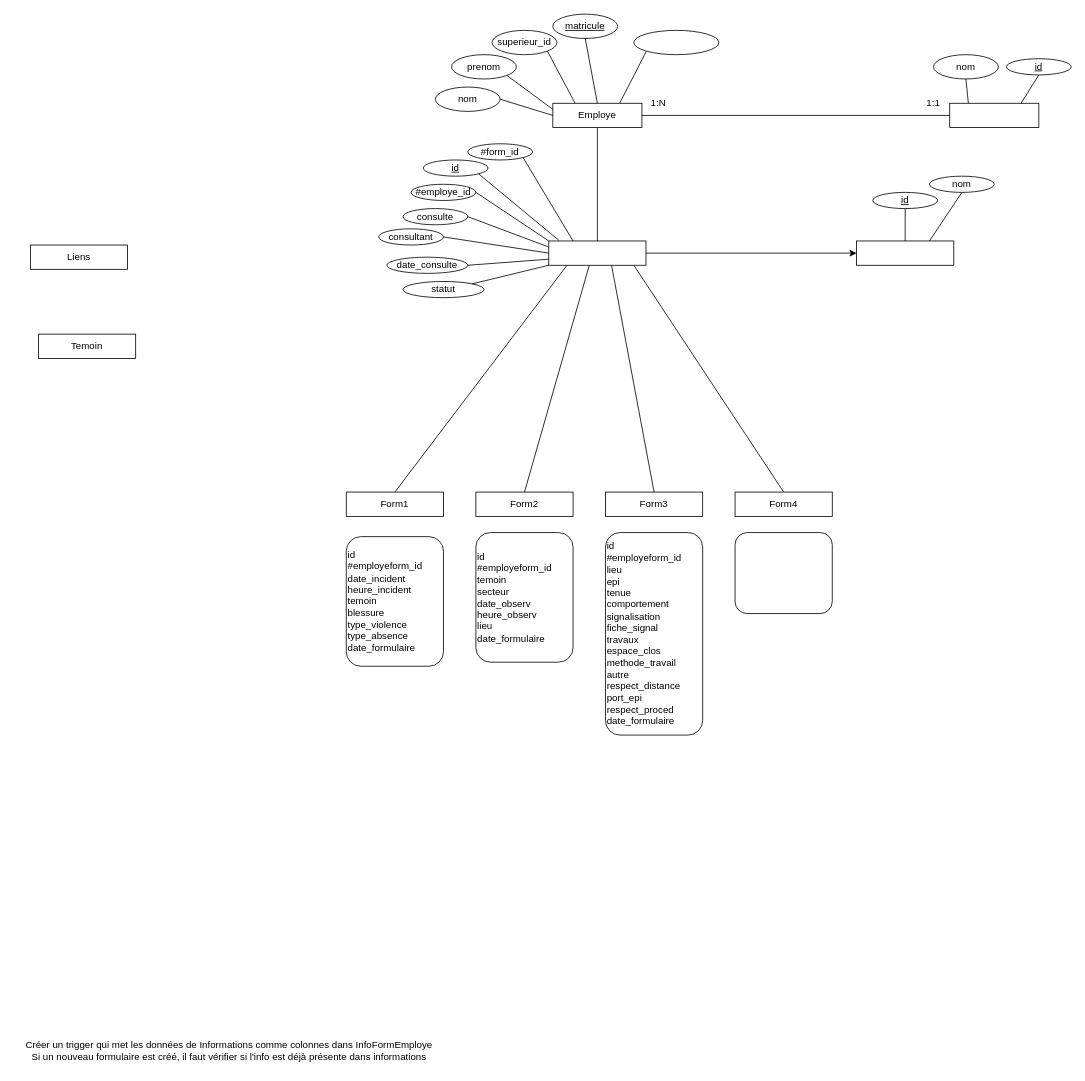
The diagram is 1085 pixels wide and 1081 high, and some of its shapes have lost their labels. The shapes that lost their labels are listed below. From the top down, each one's box as (x1, y1, x2, y2) in pixels, then its label:
(633, 30, 719, 55): #departement_id
(949, 102, 1039, 128): Departement
(548, 240, 646, 265): EmployeForm
(856, 240, 954, 265): Formulaires
(734, 532, 832, 614): id #employeform_id no_unite departement vehicule_citoyen date_formulaire
